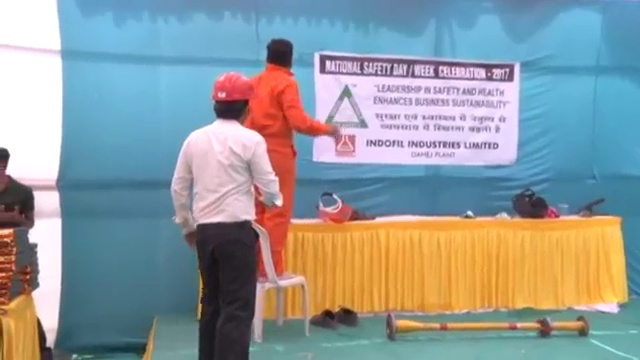helmet: (211, 71, 258, 102)
helmet_off: (266, 38, 296, 75)
helmet_on: (210, 69, 259, 129)
person: (167, 71, 282, 360), (245, 37, 334, 280), (1, 146, 32, 229)
